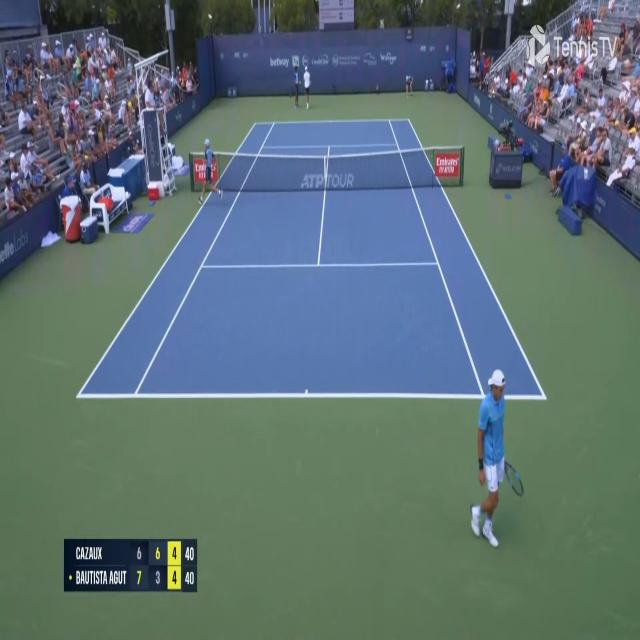tennis-player: (470, 366, 526, 554), (293, 64, 312, 110)
